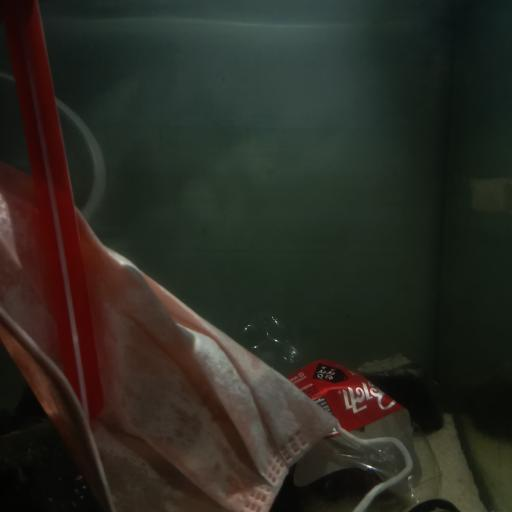mask: (0, 162, 412, 510)
plastic_bottle: (224, 299, 451, 512)
plastic_cup: (0, 77, 114, 219)
plastic_straw: (0, 0, 106, 412)
